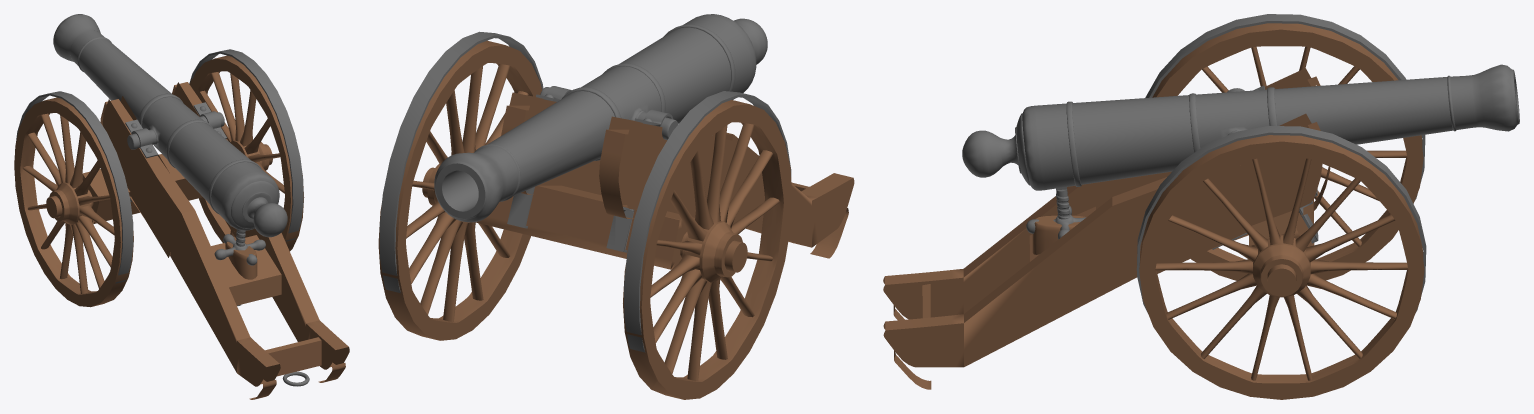
The model's file is civil-war-cannon.fbx.
The picture shows the model from 3 angles, left to right: view 1: azimuth 30°, elevation 25°; view 2: azimuth 150°, elevation 25°; view 3: azimuth 270°, elevation 25°; orthographic projection. The views are drawn at different scales.
Parts seen in each view (by area): view 1: Object_6, Object_4, Object_7, Object_5, Object_2, Object_3; view 2: Object_6, Object_4, Object_7, Object_5, Object_2; view 3: Object_6, Object_4, Object_5, Object_7, Object_2.
Part boxes in pixels (bbox=[...]): Object_6: bbox=[14, 55, 349, 386]; Object_4: bbox=[53, 14, 277, 228]; Object_7: bbox=[15, 49, 309, 386]; Object_5: bbox=[102, 79, 345, 399]; Object_2: bbox=[70, 30, 287, 237]; Object_3: bbox=[214, 234, 265, 265]; Object_6: bbox=[378, 40, 854, 399]; Object_4: bbox=[434, 16, 751, 222]; Object_7: bbox=[379, 31, 791, 352]; Object_5: bbox=[509, 92, 848, 258]; Object_2: bbox=[435, 14, 767, 218]; Object_6: bbox=[883, 23, 1424, 399]; Object_4: bbox=[1000, 64, 1519, 189]; Object_5: bbox=[893, 68, 1322, 389]; Object_7: bbox=[1056, 14, 1426, 312]; Object_2: bbox=[962, 70, 1519, 190].
Bounding box in the file's own units: 821 × 792 × 1555.
